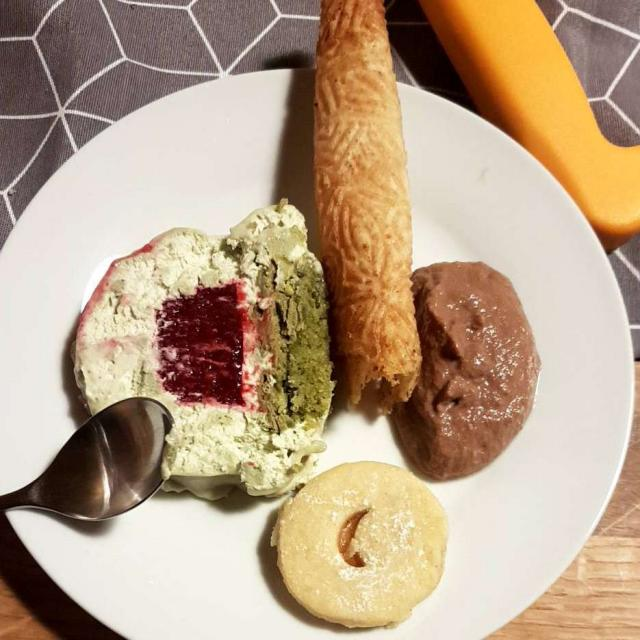biscuit-with-butter: (269, 464, 445, 624)
chocolate-mousse: (395, 263, 534, 478)
dairy-ice-cream: (74, 207, 333, 490)
